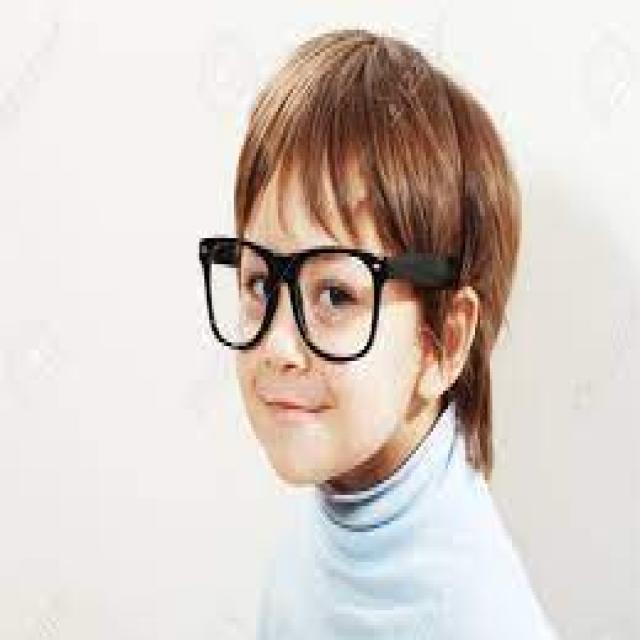Glasses: (199, 228, 456, 365)
